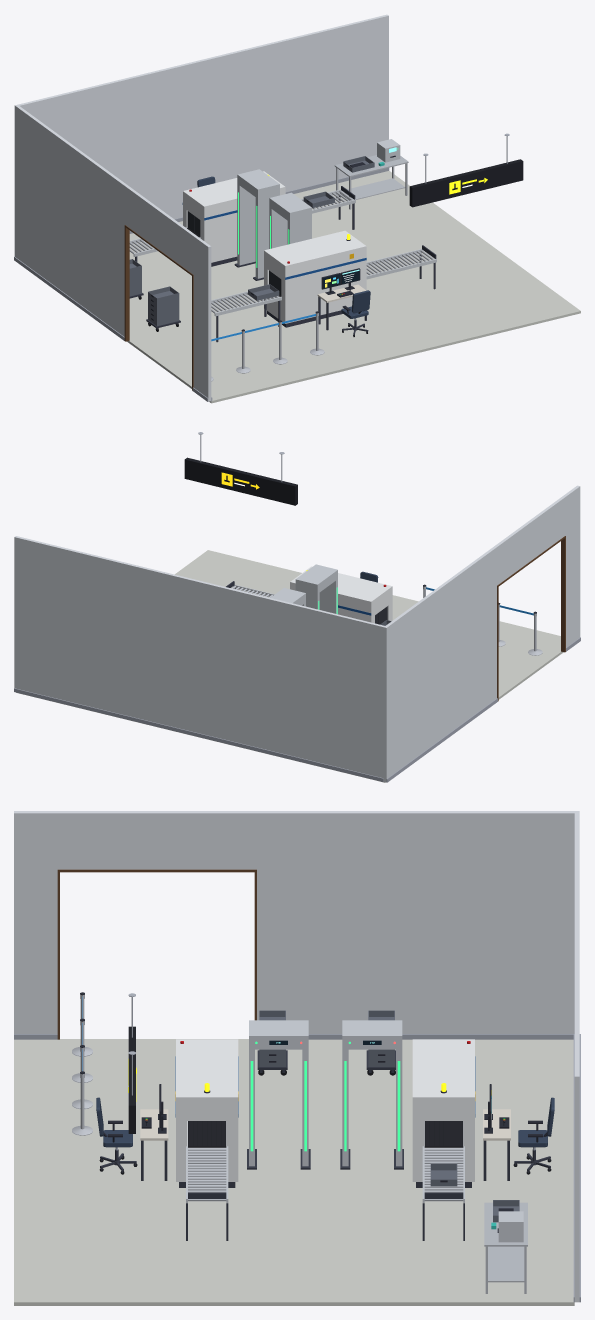
The model's file is air-027.glb.
3 renders of one model, top to bottom at view 1: azimuth 30°, elevation 25°; view 2: azimuth 150°, elevation 25°; view 3: azimuth 270°, elevation 25°, orthographic. The views are drawn at different scales.
Parts seen in each view (by area): view 1: wall_1 (×2), floor, wall_2, hood (×2), door_header_1, panel, base (×2), panel_right (×2), tunnel_side_2 (×2), header (×2), panel_left (×2), door_jamb_1_right (+3 smaller); view 2: wall_1 (×2), wall_2, floor, door_header_1, panel, hood, skirting_1_back, header, door_jamb_1_left, skirting_2_back, panel_left; view 3: floor, wall_2, wall_1 (×2), door_header_1, hood (×2), header (×2), base (×2), desk_top (×2), shelf, panel_right (×2), skirting_2_front, top (+4 smaller).
Part boxes in pixels (x1,y1,x2,y2): wall_1 (×2): (18,14,388,401); floor: (127,171,580,403); wall_2: (14,104,127,336); hood (×2): (183,171,366,282); door_header_1: (125,185,195,274); panel: (409,159,523,207); base (×2): (204,233,366,323); panel_right (×2): (237,184,287,265); tunnel_side_2 (×2): (200,215,366,300); header (×2): (237,169,311,221); panel_left (×2): (255,193,311,278); door_jamb_1_right: (124,227,129,341); wall_1 (×2): (14,485,580,778); wall_2: (383,546,496,782); floor: (16,550,563,782); door_header_1: (494,496,565,585); panel: (184,457,297,505); hood: (290,566,392,617); skirting_1_back: (14,688,383,781); header: (295,564,337,593); door_jamb_1_left: (561,537,565,652); skirting_2_back: (386,698,497,782); panel_left: (319,579,337,613); floor: (14,1039,574,1305); wall_2: (257,811,579,1033); wall_1 (×2): (14,811,579,1302); door_header_1: (57,811,256,869); hood (×2): (176,1039,474,1120); header (×2): (249,1020,402,1049); base (×2): (176,1121,474,1181); desk_top (×2): (140,1109,510,1140); shelf: (488,1246,524,1282); panel_right (×2): (302,1049,402,1166); skirting_2_front: (308,1034,573,1039); top: (484,1202,527,1246).
Size of the model in its own units: 10.1 by 4.06 by 9.1.
